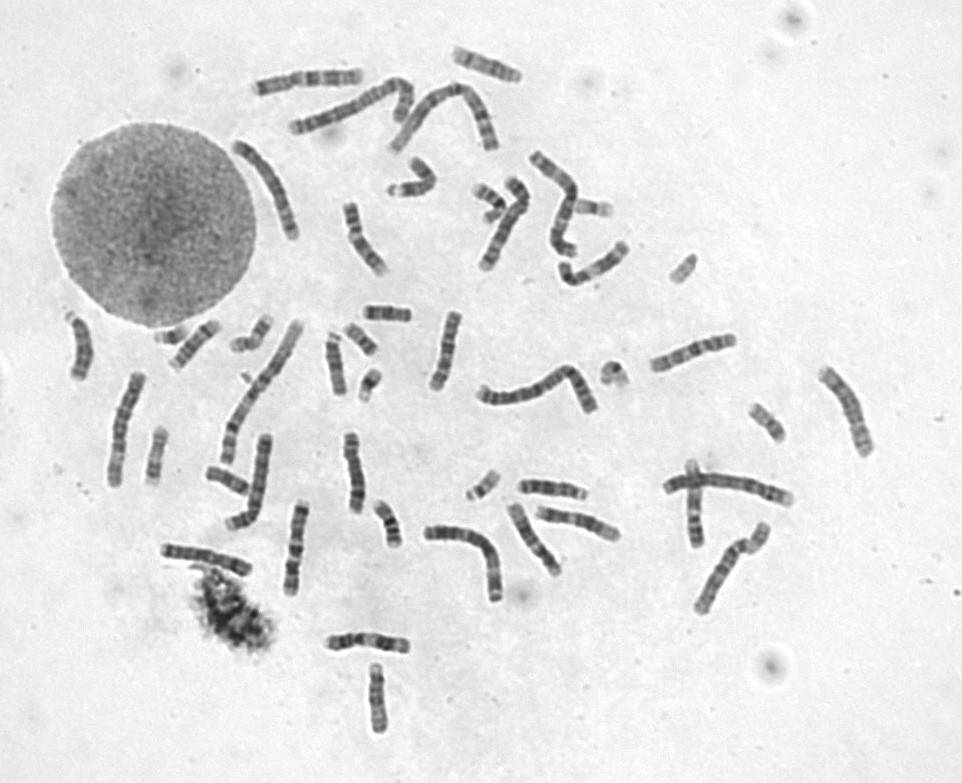chromosomes: (218, 316, 307, 468), (388, 84, 507, 165), (226, 137, 307, 248), (288, 76, 422, 141), (693, 518, 776, 618), (419, 519, 508, 609), (475, 366, 607, 422), (527, 143, 584, 263), (815, 358, 876, 469), (99, 368, 148, 494), (223, 430, 279, 536), (478, 173, 536, 275), (653, 474, 799, 511), (247, 62, 367, 104), (506, 499, 567, 580), (643, 331, 748, 377), (341, 196, 393, 282), (276, 494, 318, 600), (166, 316, 231, 380), (161, 541, 257, 583), (558, 239, 633, 292), (528, 505, 625, 545), (449, 41, 524, 89), (429, 310, 466, 396), (678, 461, 711, 554), (61, 303, 97, 386), (383, 156, 441, 207), (324, 630, 413, 660), (224, 311, 278, 358), (319, 328, 352, 401), (751, 396, 791, 455), (342, 433, 367, 516), (469, 178, 510, 228), (367, 497, 403, 553), (516, 476, 592, 502), (144, 423, 174, 486), (199, 464, 250, 500), (370, 659, 393, 738), (340, 320, 380, 362), (459, 468, 505, 504), (355, 301, 414, 327), (664, 251, 701, 291), (598, 354, 633, 395), (143, 323, 194, 349), (358, 365, 386, 405), (571, 201, 616, 221)
